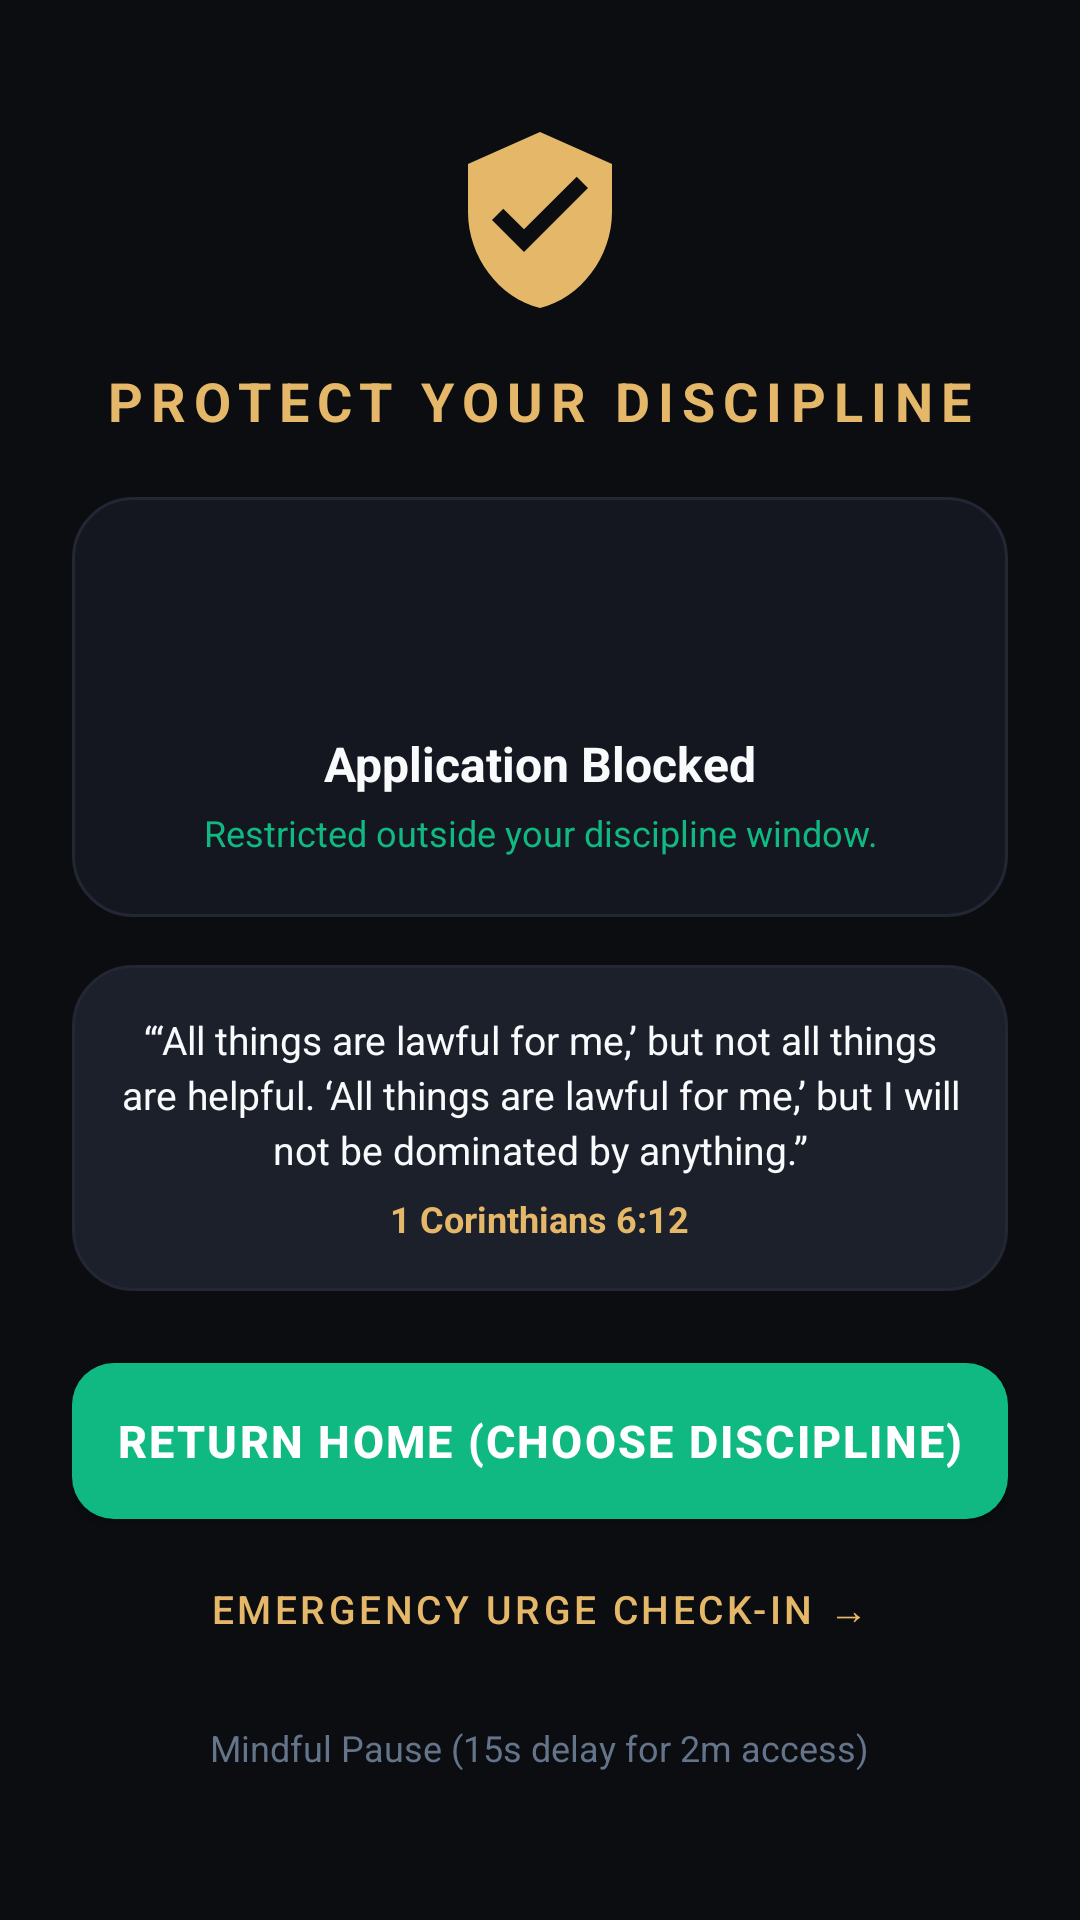

Icon bounding boxes for this 1080×1920 phone screenshot, format (x1, y1, x2, y2):
Discipline Shield: (468, 132, 612, 308)
